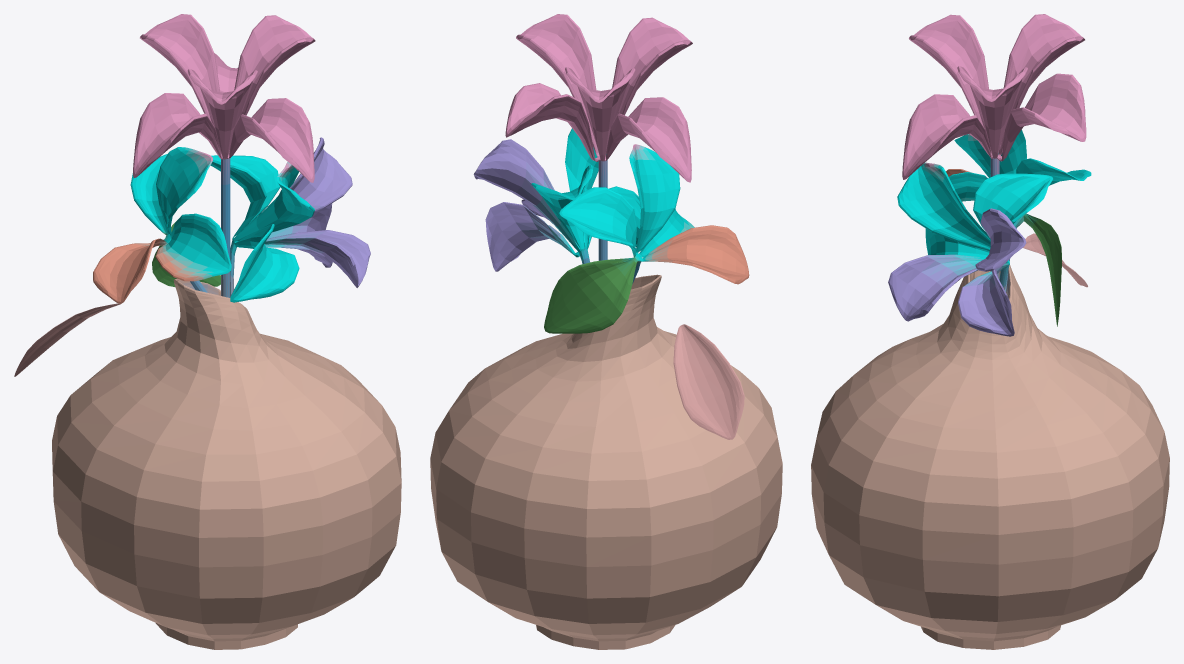
The picture shows the model from 3 angles, left to right: view 1: azimuth 30°, elevation 25°; view 2: azimuth 150°, elevation 25°; view 3: azimuth 270°, elevation 25°; orthographic projection.
Parts seen in each view (by area): view 1: world; view 2: world; view 3: world.
Boxes of the visible parts, x1=… form: world: x1=14, y1=14, x2=401, y2=649; world: x1=430, y1=14, x2=782, y2=649; world: x1=811, y1=14, x2=1169, y2=649.
Size of the model in its own units: 0.5816 by 1 by 0.5597.
